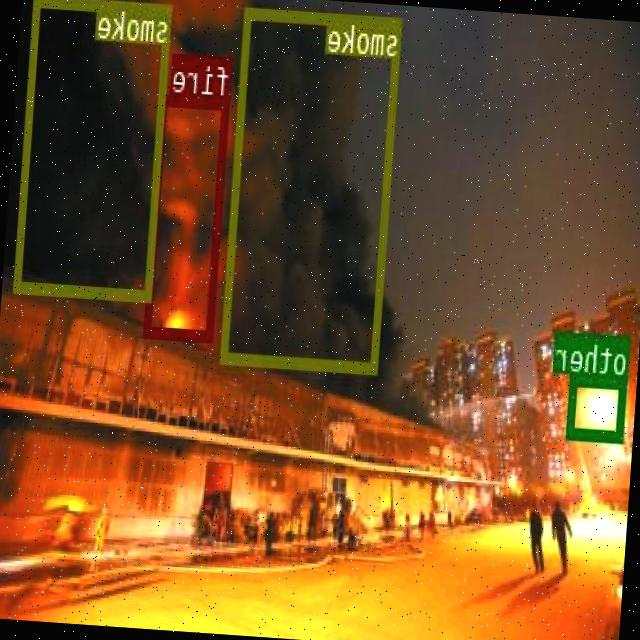fire: (144, 92, 232, 338)
smoke: (222, 4, 402, 370), (15, 0, 173, 299)
